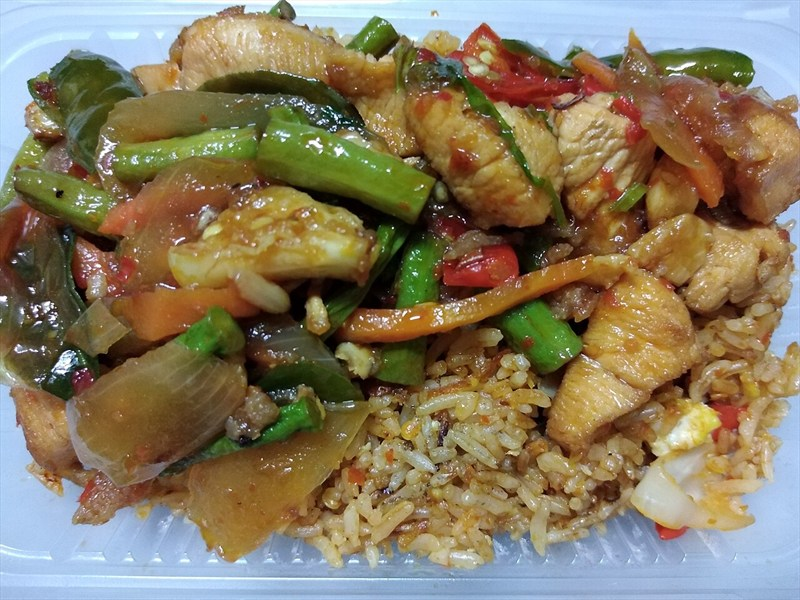Nasi Goreng: (107, 69, 718, 476)
